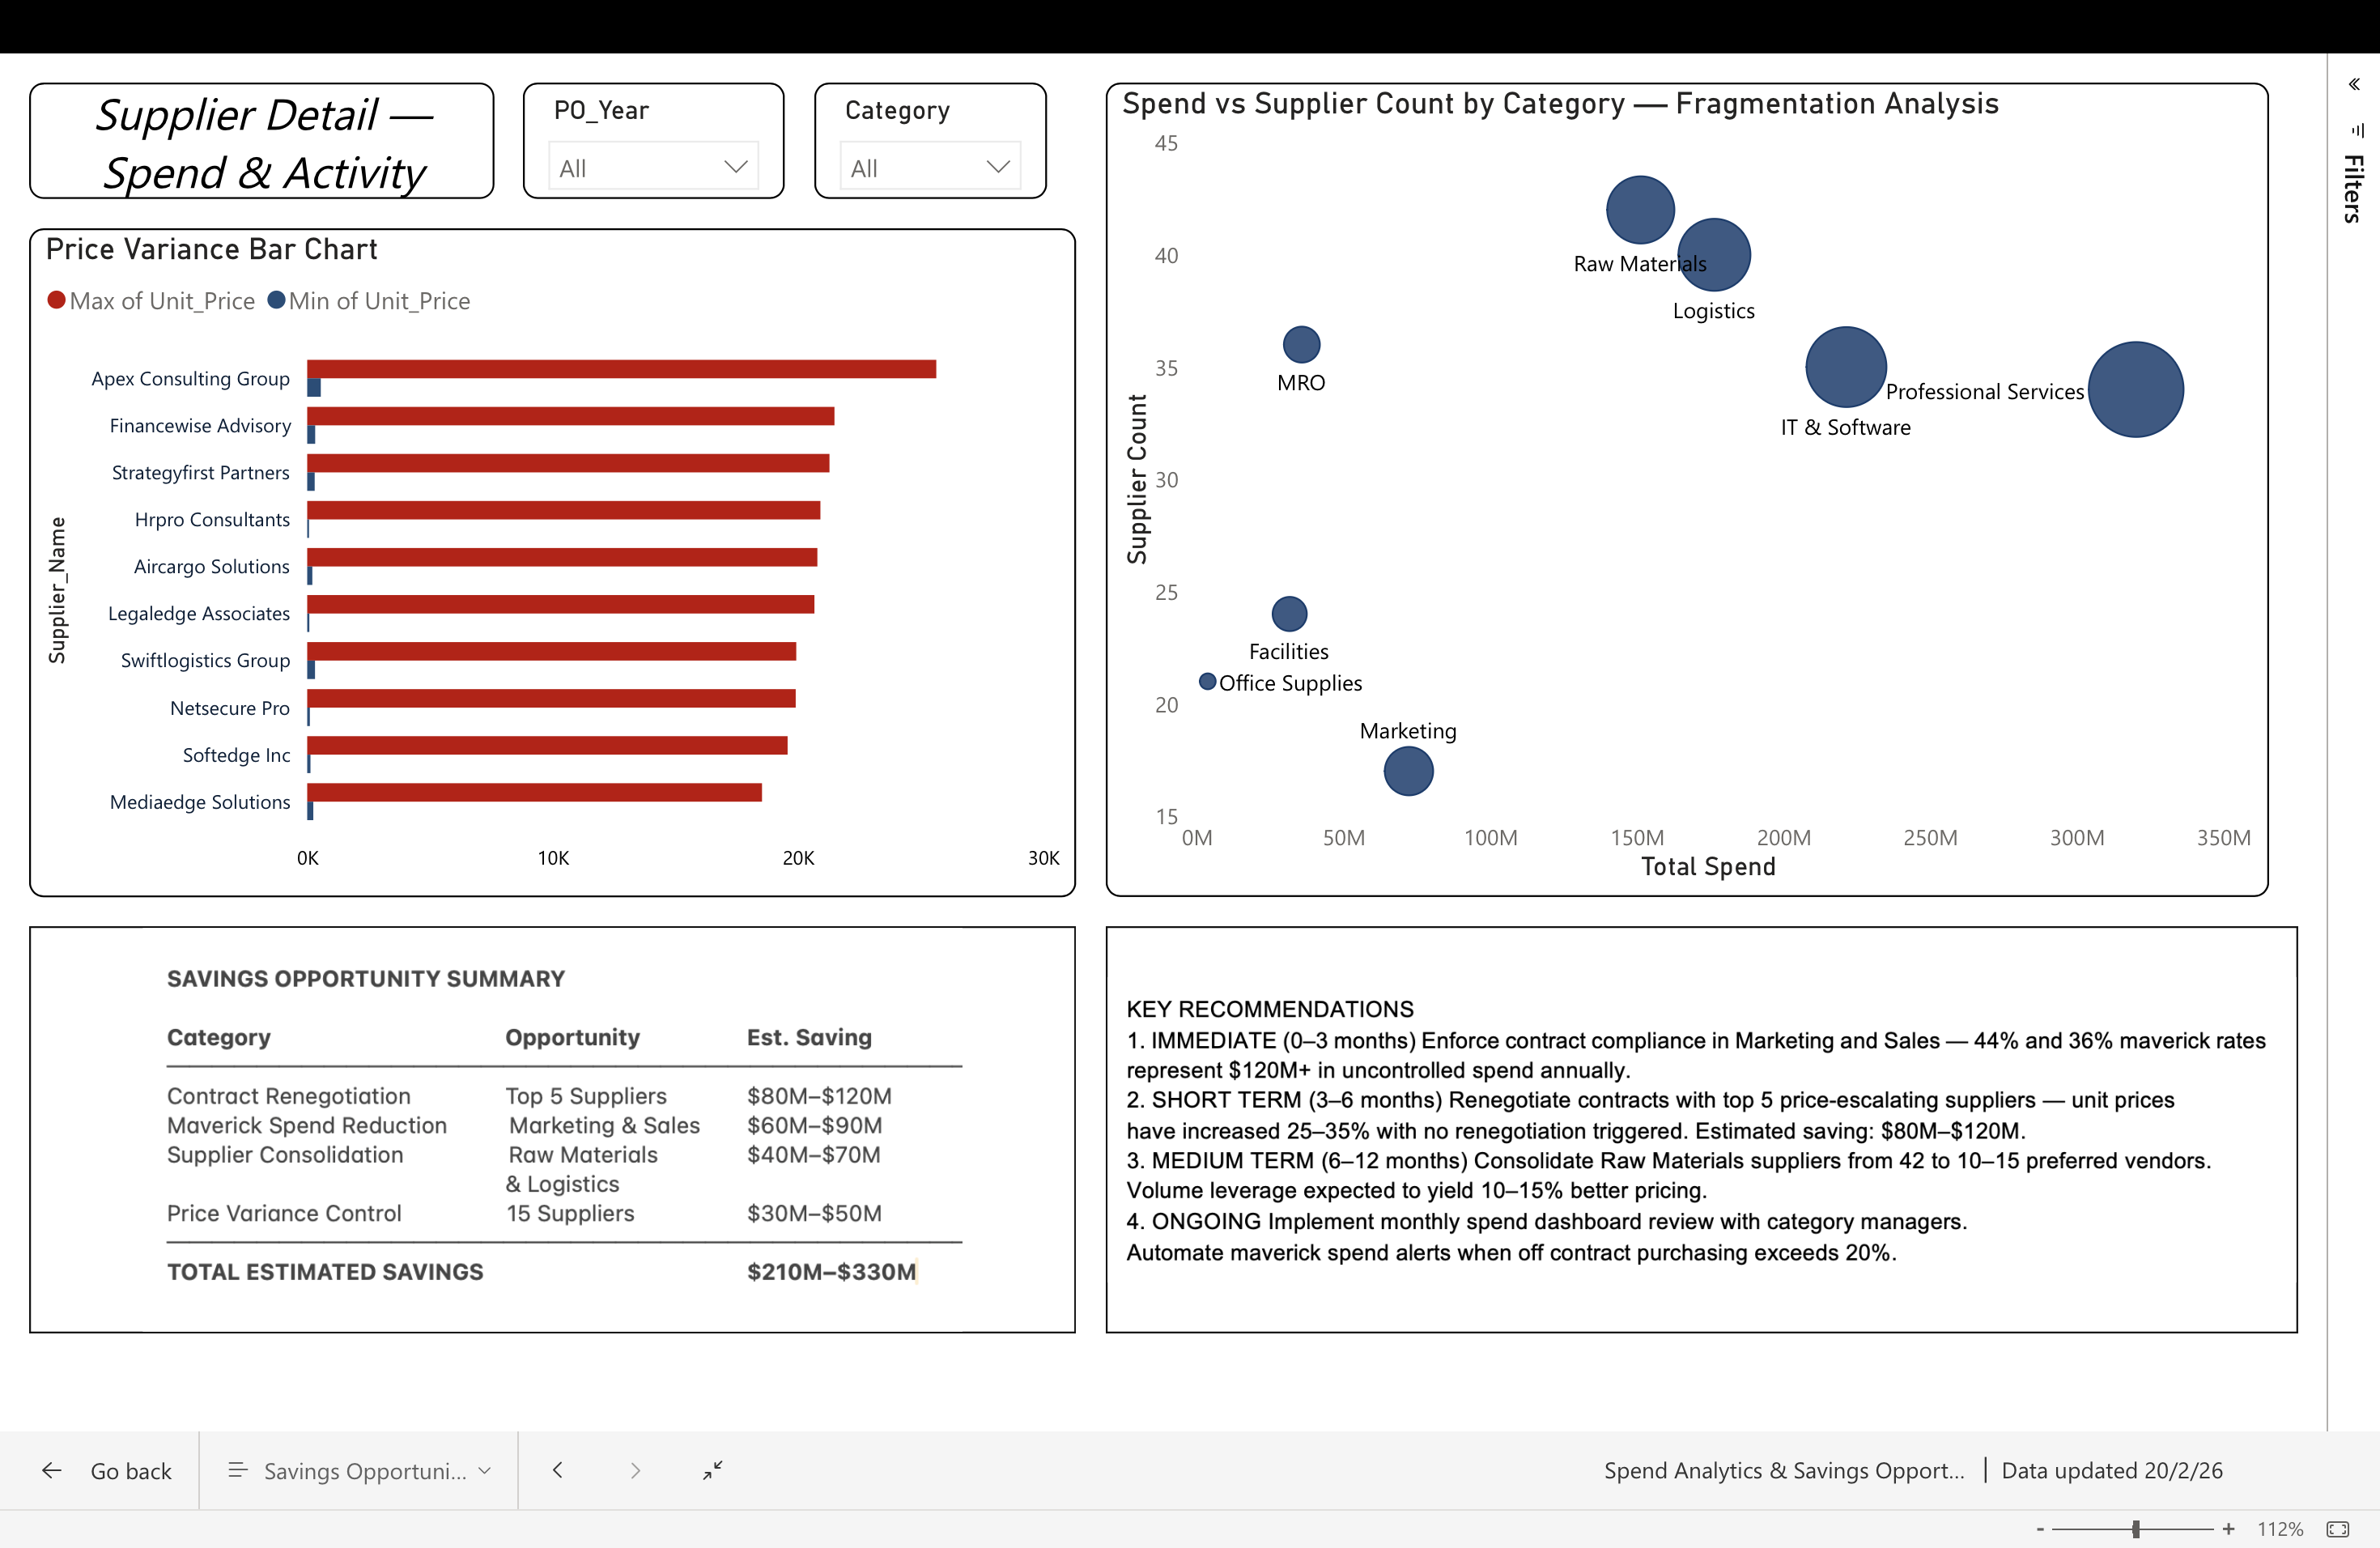

The dashboard page shown, as its layout file describes it:
{"tool":"powerbi","page":{"name":"Savings Opportunities","canvas":[1280,720],"ordinal":3},"visuals":[{"type":"clusteredBarChart","title":"Price Variance Bar Chart","fields":{"Category":["dashboard_main.Supplier_Name"],"Y":["Max(dashboard_main.Unit_Price)","Min(dashboard_main.Unit_Price)1"]},"box":[16,96,576,368],"z":0},{"type":"scatterChart","title":"Spend vs Supplier Count by Category — Fragmentation Analysis","fields":{"X":["dashboard_main.Total Spend"],"Y":["dashboard_main.Supplier Count"],"Size":["dashboard_main.Total Spend"],"Category":["dashboard_main.Category"]},"box":[608,16,640,448],"z":2},{"type":"shape","box":[16,16,256,64],"z":4},{"type":"slicer","fields":{"Values":["dashboard_main.PO_Year"]},"box":[288,16,144,64],"z":5},{"type":"slicer","fields":{"Values":["dashboard_main.Category"]},"box":[448,16,128,64],"z":6},{"type":"image","box":[16,480,576,224],"z":7},{"type":"image","box":[608,480,656,224],"z":8}]}

Visuals, with their boxes on the page's 1280x720 design canvas (x1, y1, x2, y2). These are canvas units, not pixel positions in the 2380x1548 screenshot, which may show the page scaled, cropped or inside an application window:
"Price Variance Bar Chart" clusteredBarChart: (16, 96, 592, 464)
"Spend vs Supplier Count by Category — Fragmentation Analysis" scatterChart: (608, 16, 1248, 464)
shape: (16, 16, 272, 80)
slicer - dashboard_main.PO_Year: (288, 16, 432, 80)
slicer - dashboard_main.Category: (448, 16, 576, 80)
image: (16, 480, 592, 704)
image: (608, 480, 1264, 704)
